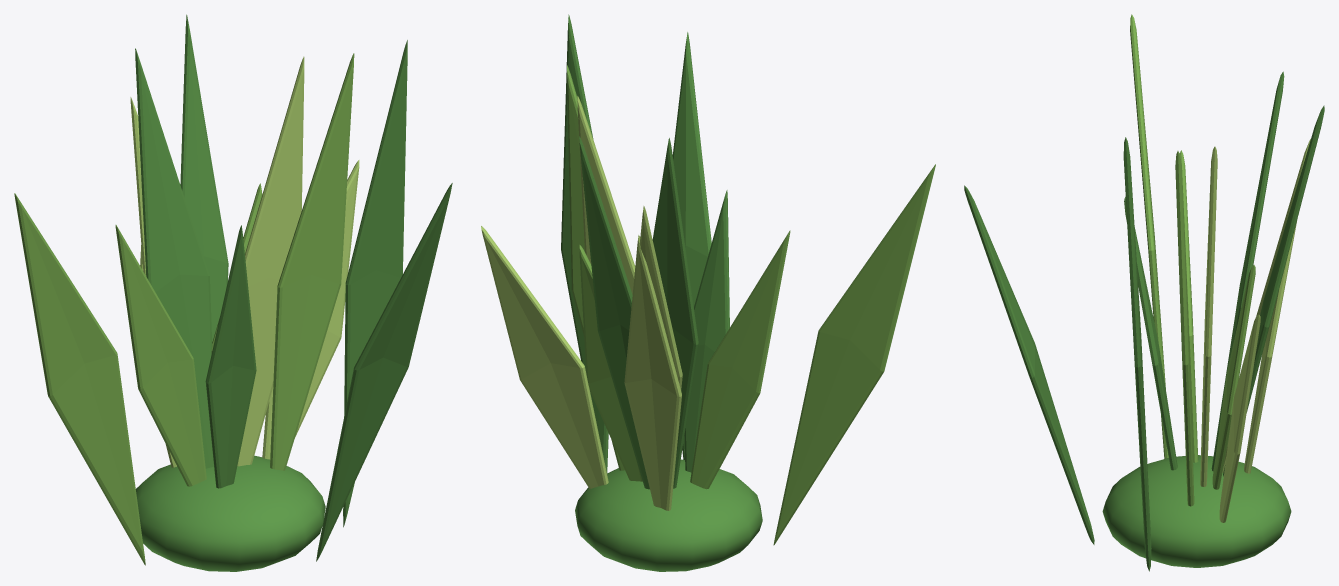
File: Grass_Clump_B.fbx
3 views of the same model, side by side, from view 1: azimuth 30°, elevation 25°; view 2: azimuth 150°, elevation 25°; view 3: azimuth 270°, elevation 25° (orthographic). The views are drawn at different scales.
Parts seen in each view (by area): view 1: Grass_Base.001, Grass_Blade_10, Grass_Blade_04.001, Grass_Blade_03.001, Grass_Blade_12, Grass_Blade_02.001, Grass_Blade_00.001, Grass_Blade_01.001, Grass_Blade_06.001, Grass_Blade_09, Grass_Blade_11, Grass_Blade_05.001; view 2: Grass_Blade_10, Grass_Base.001, Grass_Blade_11, Grass_Blade_01.001, Grass_Blade_08.001, Grass_Blade_09, Grass_Blade_03.001, Grass_Blade_12, Grass_Blade_06.001, Grass_Blade_07.001, Grass_Blade_00.001, Grass_Blade_04.001 (+2 smaller); view 3: Grass_Base.001, Grass_Blade_12, Grass_Blade_00.001, Grass_Blade_04.001, Grass_Blade_10, Grass_Blade_09, Grass_Blade_02.001, Grass_Blade_11, Grass_Blade_03.001, Grass_Blade_07.001, Grass_Blade_06.001, Grass_Blade_08.001 (+2 smaller).
Boxes of the visible parts, x1,y1,x2,y2 form: Grass_Base.001: (136,455,325,571); Grass_Blade_10: (14,193,145,565); Grass_Blade_04.001: (270,53,354,470); Grass_Blade_03.001: (135,48,213,468); Grass_Blade_12: (316,183,452,561); Grass_Blade_02.001: (237,56,304,466); Grass_Blade_00.001: (343,40,407,527); Grass_Blade_01.001: (115,225,206,486); Grass_Blade_06.001: (205,225,256,488); Grass_Blade_09: (180,14,228,341); Grass_Blade_11: (262,160,359,459); Grass_Blade_05.001: (130,97,146,275); Grass_Blade_10: (773,164,935,545); Grass_Base.001: (575,459,762,571); Grass_Blade_11: (481,226,608,488); Grass_Blade_01.001: (690,230,790,489); Grass_Blade_08.001: (624,235,681,510); Grass_Blade_09: (579,136,649,489); Grass_Blade_03.001: (652,138,698,488); Grass_Blade_12: (672,32,711,459); Grass_Blade_06.001: (684,190,729,472); Grass_Blade_07.001: (579,245,642,481); Grass_Blade_00.001: (561,14,608,473); Grass_Blade_04.001: (567,65,624,470); Grass_Base.001: (1102,455,1291,567); Grass_Blade_12: (964,185,1094,544); Grass_Blade_00.001: (1123,137,1151,571); Grass_Blade_04.001: (1175,151,1194,506); Grass_Blade_10: (1130,14,1168,458); Grass_Blade_09: (1223,105,1324,476); Grass_Blade_02.001: (1200,146,1217,486); Grass_Blade_11: (1219,314,1260,522); Grass_Blade_03.001: (1211,71,1284,471); Grass_Blade_07.001: (1212,265,1255,489); Grass_Blade_06.001: (1124,197,1177,470); Grass_Blade_08.001: (1244,220,1297,473).
Size of the model in its own units: 122 by 144 by 97.62.
